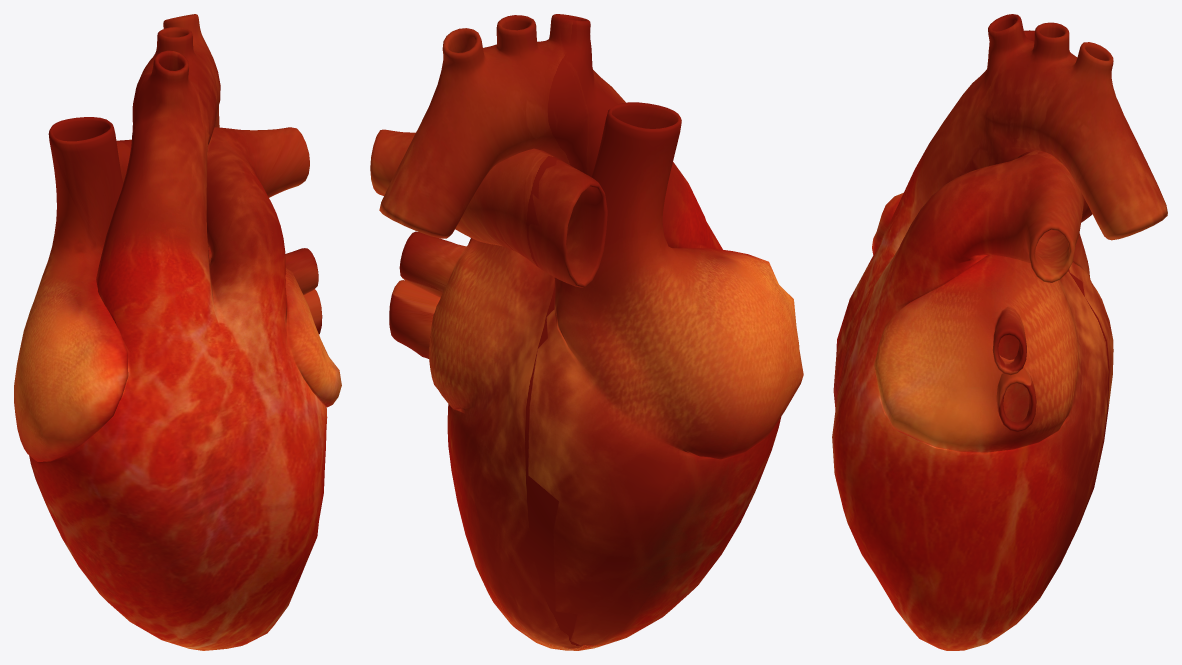
Rendered from cora.glb.
3 views of the same model, side by side, from view 1: azimuth 30°, elevation 25°; view 2: azimuth 150°, elevation 25°; view 3: azimuth 270°, elevation 25° (orthographic). The views are drawn at different scales.
Visible parts, largest first — view 1: (null).2; view 2: (null).2; view 3: (null).2.
Boxes of the visible parts, box(x1,y1,x2,y2) form: (null).2: box(14, 14, 341, 650); (null).2: box(370, 14, 803, 650); (null).2: box(832, 14, 1167, 650).
Bounding box in the file's own units: 149 × 262 × 128.
Materials: 1 (1 with a texture image).
